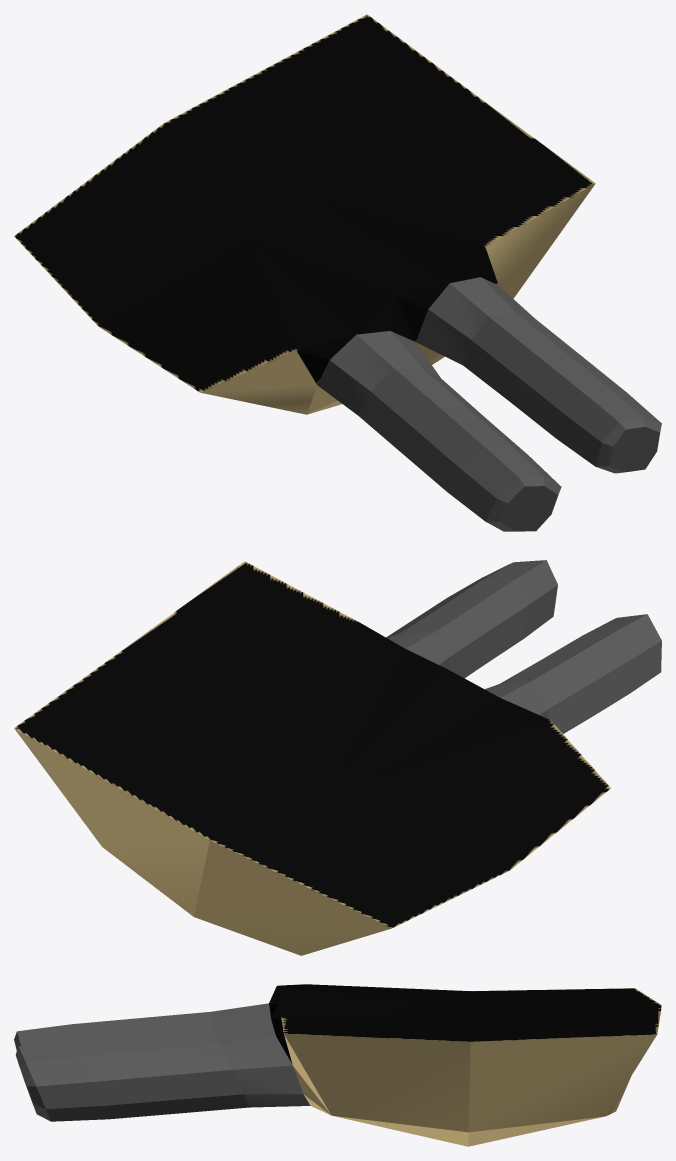
The model's file is weapon 1.FBX.
3 views of the same model, one above another, from view 1: azimuth 30°, elevation 25°; view 2: azimuth 150°, elevation 25°; view 3: azimuth 270°, elevation 25° (orthographic). The views are drawn at different scales.
Visible parts, largest first — view 1: Box001; view 2: Box001; view 3: Box001.
Part boxes in pixels (x1,y1,x2,y2): Box001: (14,14,661,531); Box001: (14,560,661,955); Box001: (14,984,661,1146).
Bounding box in the file's own units: 26.86 × 13.73 × 47.71.
1 material, 1 textured.
